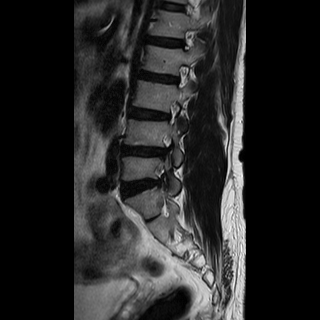RFS0: (170, 58, 193, 93), (159, 96, 182, 129), (174, 25, 198, 56)
